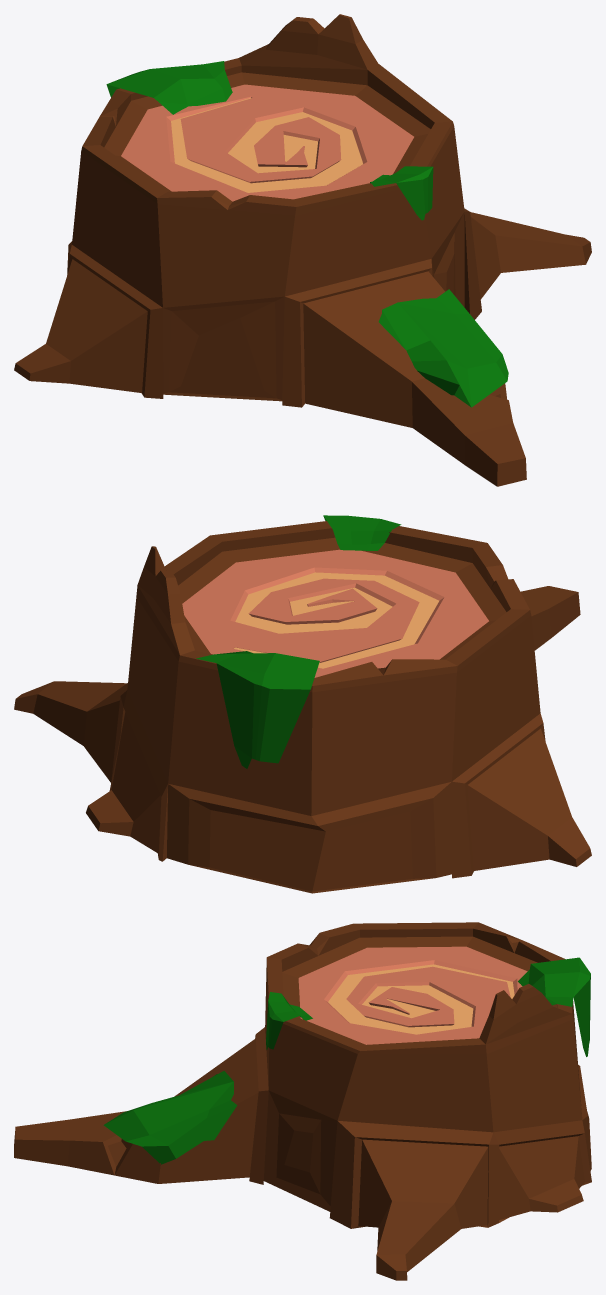
Rendered from TreeStump.fbx.
3 views of the same model, one above another, from view 1: azimuth 30°, elevation 25°; view 2: azimuth 150°, elevation 25°; view 3: azimuth 270°, elevation 25° (orthographic). The views are drawn at different scales.
Visible parts, largest first — view 1: Cylinder, Plane.002, Plane.001, Plane; view 2: Cylinder, Plane.001, Plane; view 3: Cylinder, Plane.002, Plane.001, Plane.
Part boxes in pixels (box(x1,y1,x2,y2)): Cylinder: box(14, 14, 591, 486); Plane.002: box(378, 289, 508, 407); Plane.001: box(106, 61, 232, 114); Plane: box(370, 166, 433, 220); Cylinder: box(14, 521, 591, 893); Plane.001: box(196, 651, 319, 768); Plane: box(323, 515, 401, 550); Cylinder: box(14, 922, 591, 1280); Plane.002: box(103, 1071, 237, 1164); Plane.001: box(518, 957, 590, 1056); Plane: box(266, 992, 312, 1049).
Size of the model in its own units: 311 by 133 by 322.
